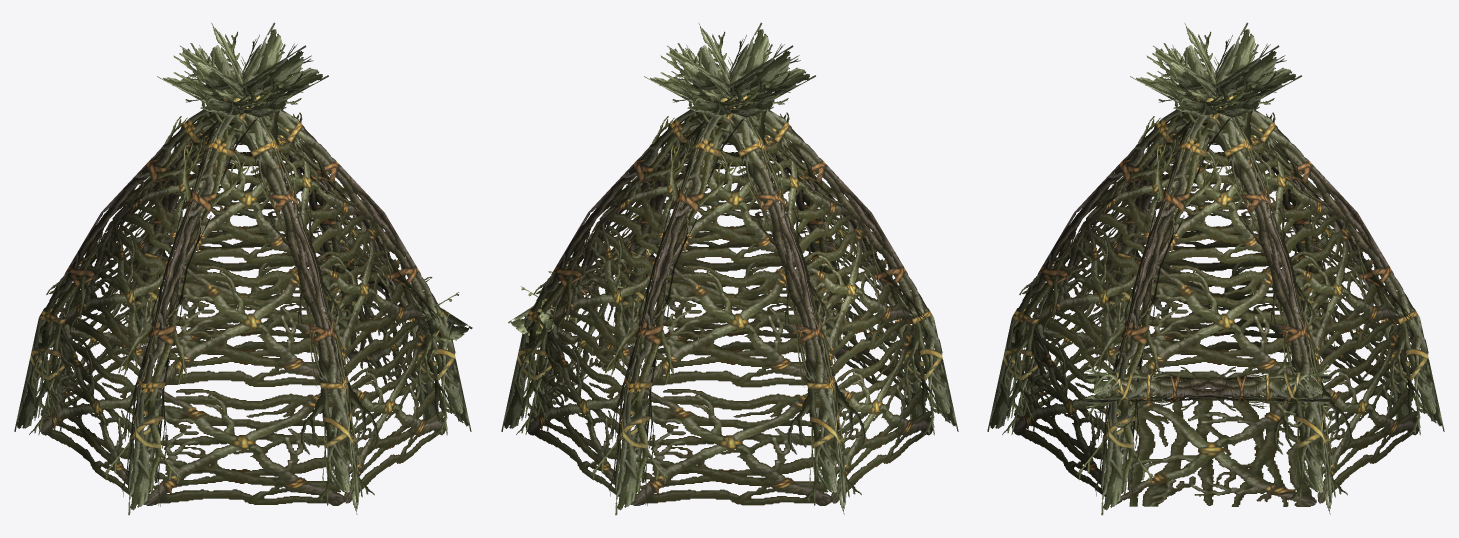
Rendered from wc_cage01.obj.
3 renders of one model, left to right at view 1: azimuth 30°, elevation 25°; view 2: azimuth 150°, elevation 25°; view 3: azimuth 270°, elevation 25°, orthographic.
Visible parts, largest first — view 1: Geoset1, Geoset0; view 2: Geoset1, Geoset0; view 3: Geoset1, Geoset0.
Boxes of the visible parts, x1,y1,x2,y2 form: Geoset1: (38,126,447,505); Geoset0: (14,22,472,515); Geoset1: (525,127,932,505); Geoset0: (501,22,958,515); Geoset1: (1011,127,1420,506); Geoset0: (987,22,1444,515).
Bounding box in the file's own units: 4.37 × 4.27 × 4.58.
2 materials, 2 textured.
